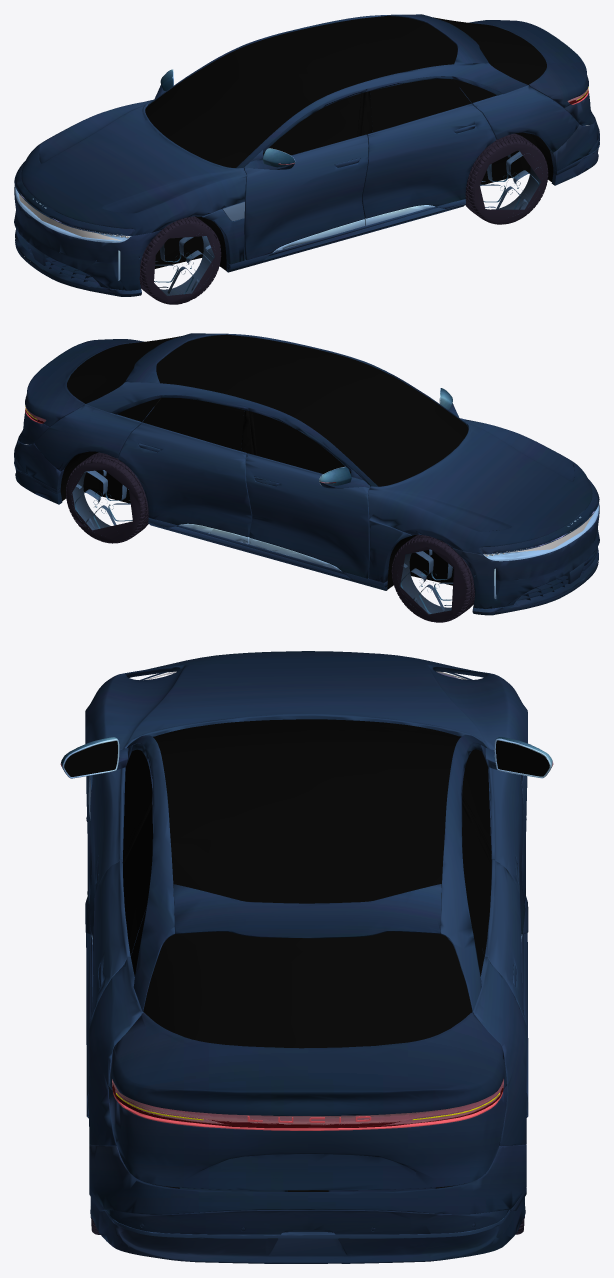
File: lucid_air.glb
3 renders of one model, top to bottom at view 1: azimuth 30°, elevation 25°; view 2: azimuth 150°, elevation 25°; view 3: azimuth 270°, elevation 25°, orthographic. The views are drawn at different scales.
Visible parts, largest first — view 1: body, wheel_FR, wheel_RR; view 2: body, wheel_FL, wheel_RL; view 3: body.
Part boxes in pixels (bbox=[...]): body: bbox=[14, 14, 599, 296]; wheel_FR: bbox=[465, 133, 548, 224]; wheel_RR: bbox=[139, 216, 221, 304]; body: bbox=[14, 333, 599, 615]; wheel_FL: bbox=[66, 452, 148, 543]; wheel_RL: bbox=[391, 534, 474, 622]; body: bbox=[60, 651, 553, 1263].
Size of the model in its own units: 4.97 by 1.45 by 1.99.
Materials: 10 (10 with a texture image).
